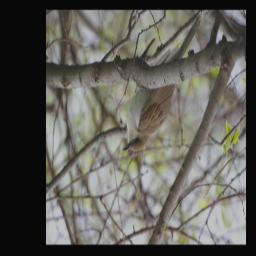Cuckoo: (122, 10, 205, 152)
